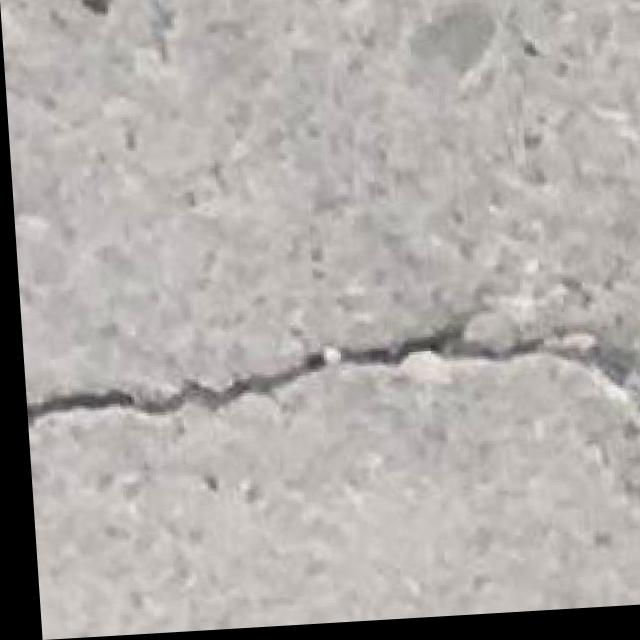Crack: (18, 319, 640, 465)
